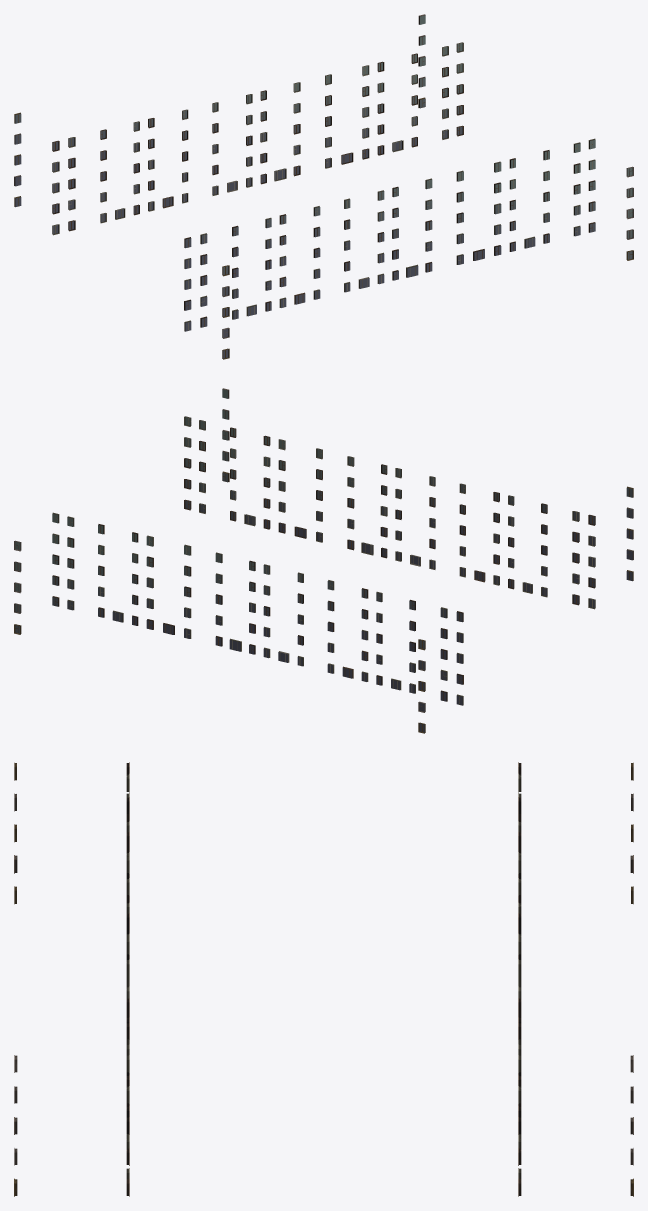
Rendered from Evra Stekla.fbx.
3 renders of one model, top to bottom at view 1: azimuth 30°, elevation 25°; view 2: azimuth 150°, elevation 25°; view 3: azimuth 270°, elevation 25°, orthographic. The views are drawn at different scales.
Visible parts, largest first — view 1: Evra Stekla.002, Evro Rami.001; view 2: Evra Stekla.002, Evro Rami.001; view 3: Evro Rami.001.
Boxes of the visible parts, bbox=[...] form: Evra Stekla.002: bbox=[15, 15, 632, 358]; Evro Rami.001: bbox=[14, 14, 633, 359]; Evra Stekla.002: bbox=[15, 389, 632, 732]; Evro Rami.001: bbox=[14, 388, 633, 733]; Evro Rami.001: bbox=[14, 762, 633, 1196].
Size of the model in its own units: 15064 by 3264 by 13275.
